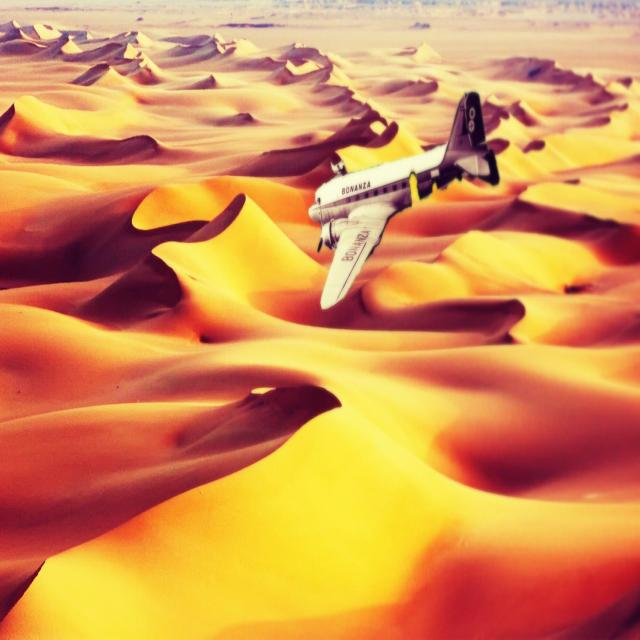airplane: (308, 90, 500, 310)
